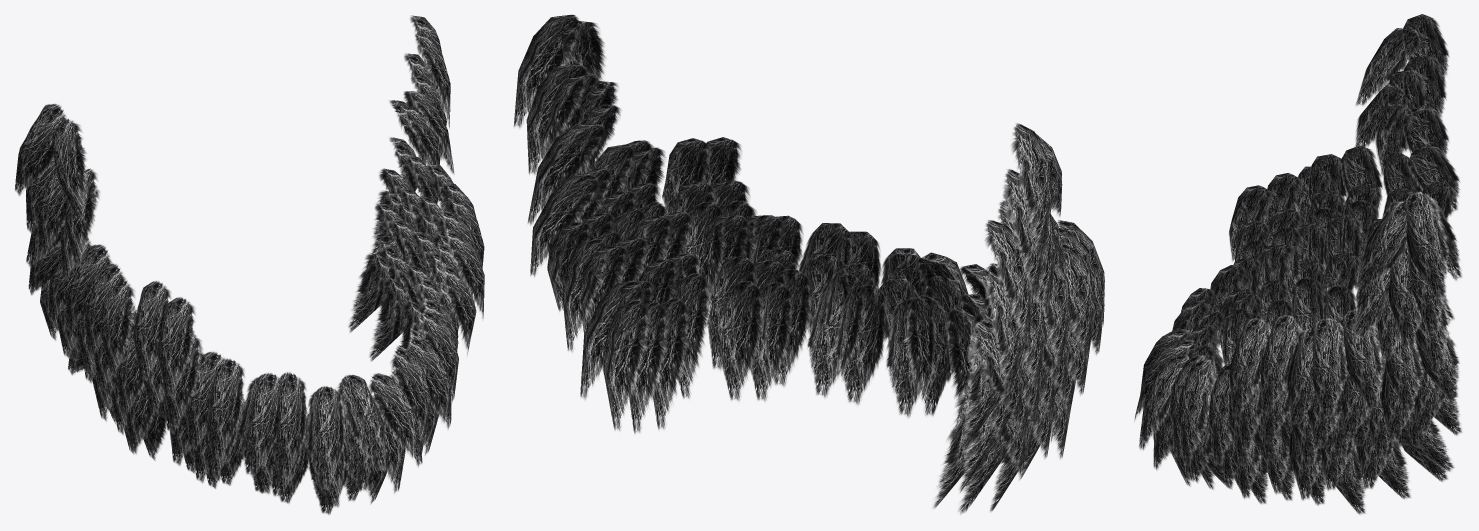
File: facial_beard_short.gltf
3 views of the same model, side by side, from view 1: azimuth 30°, elevation 25°; view 2: azimuth 150°, elevation 25°; view 3: azimuth 270°, elevation 25° (orthographic). The views are drawn at different scales.
Parts seen in each view (by area): view 1: facial_beard_short; view 2: facial_beard_short; view 3: facial_beard_short.
Boxes of the visible parts, x1=… form: facial_beard_short: x1=15, y1=15, x2=484, y2=514; facial_beard_short: x1=513, y1=14, x2=1104, y2=514; facial_beard_short: x1=1134, y1=14, x2=1462, y2=514.
Size of the model in its own units: 0.1585 by 0.1328 by 0.1062.
Materials: 1 (1 with a texture image).
